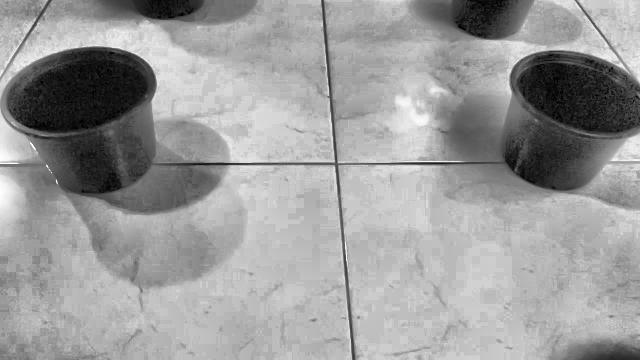pot: (0, 48, 156, 193), (501, 51, 640, 190)
